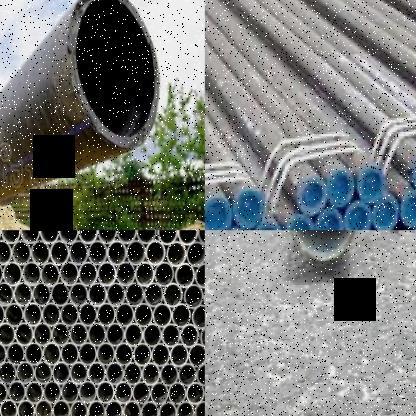pipe: (66, 0, 160, 150), (289, 230, 357, 262), (231, 185, 267, 230), (296, 174, 329, 216), (357, 164, 386, 206), (326, 168, 355, 209), (371, 195, 400, 230), (205, 194, 233, 230), (342, 201, 374, 230), (312, 205, 346, 230), (397, 189, 416, 227), (144, 240, 166, 266), (174, 262, 196, 288), (182, 283, 204, 309), (166, 240, 187, 267), (106, 240, 127, 266), (283, 213, 315, 230), (68, 239, 88, 266), (126, 239, 146, 266), (115, 261, 136, 286), (49, 240, 69, 266), (30, 240, 50, 266), (11, 240, 31, 266), (88, 240, 108, 266), (134, 261, 154, 287), (78, 261, 98, 287), (154, 261, 174, 287), (12, 281, 32, 307), (50, 281, 70, 307), (163, 282, 183, 308), (171, 302, 191, 328), (2, 261, 22, 286), (59, 261, 79, 286), (40, 262, 60, 287), (144, 282, 164, 307), (78, 302, 98, 327), (152, 302, 172, 327), (186, 241, 205, 267), (32, 281, 51, 307), (69, 281, 88, 307), (32, 322, 52, 346), (180, 324, 200, 348), (132, 342, 152, 366), (124, 322, 143, 347), (78, 341, 97, 366), (42, 341, 61, 366), (7, 341, 26, 366), (96, 341, 115, 366), (34, 360, 53, 385), (16, 360, 35, 385), (178, 362, 197, 387), (78, 379, 97, 404), (22, 261, 41, 286), (97, 261, 116, 286), (125, 282, 144, 307), (107, 282, 126, 307), (60, 302, 79, 327), (23, 302, 42, 327), (96, 302, 115, 327), (5, 302, 24, 327), (115, 302, 134, 327), (134, 302, 153, 327), (88, 281, 106, 307), (42, 301, 60, 327), (69, 322, 88, 346), (51, 322, 70, 346), (15, 322, 34, 346), (142, 323, 161, 347), (161, 323, 180, 347), (115, 342, 134, 366), (151, 343, 170, 367), (105, 361, 124, 385), (123, 361, 142, 385), (141, 362, 160, 386), (60, 341, 78, 366), (25, 341, 43, 366), (160, 362, 178, 387), (43, 380, 62, 403), (186, 382, 205, 405), (88, 322, 106, 346), (106, 322, 124, 346), (96, 380, 114, 404), (26, 380, 44, 404), (151, 381, 168, 406), (69, 362, 88, 384), (51, 362, 70, 384), (87, 362, 106, 384), (170, 344, 188, 367), (61, 380, 79, 403), (8, 380, 26, 403), (168, 382, 186, 405), (0, 360, 17, 384), (115, 380, 132, 404), (132, 382, 150, 404), (188, 344, 205, 366), (0, 322, 15, 346), (0, 281, 14, 306), (191, 303, 205, 328), (251, 219, 282, 230), (68, 399, 88, 416), (156, 230, 178, 245), (0, 239, 12, 265), (0, 398, 17, 416), (52, 399, 70, 416), (35, 399, 53, 416), (17, 399, 35, 416), (104, 399, 122, 416), (178, 230, 198, 245), (122, 400, 140, 416), (140, 400, 158, 416), (158, 400, 176, 416), (39, 230, 59, 244), (0, 230, 20, 244), (136, 230, 156, 244), (116, 230, 136, 244), (58, 230, 78, 244), (97, 230, 117, 244), (194, 263, 205, 288), (88, 399, 104, 416), (177, 400, 194, 416), (409, 152, 416, 190), (20, 230, 39, 244), (78, 230, 97, 244), (195, 362, 205, 386), (194, 400, 205, 416), (0, 380, 7, 403), (199, 324, 205, 349), (0, 342, 6, 365), (0, 300, 5, 326), (410, 217, 416, 230), (0, 260, 3, 286)
